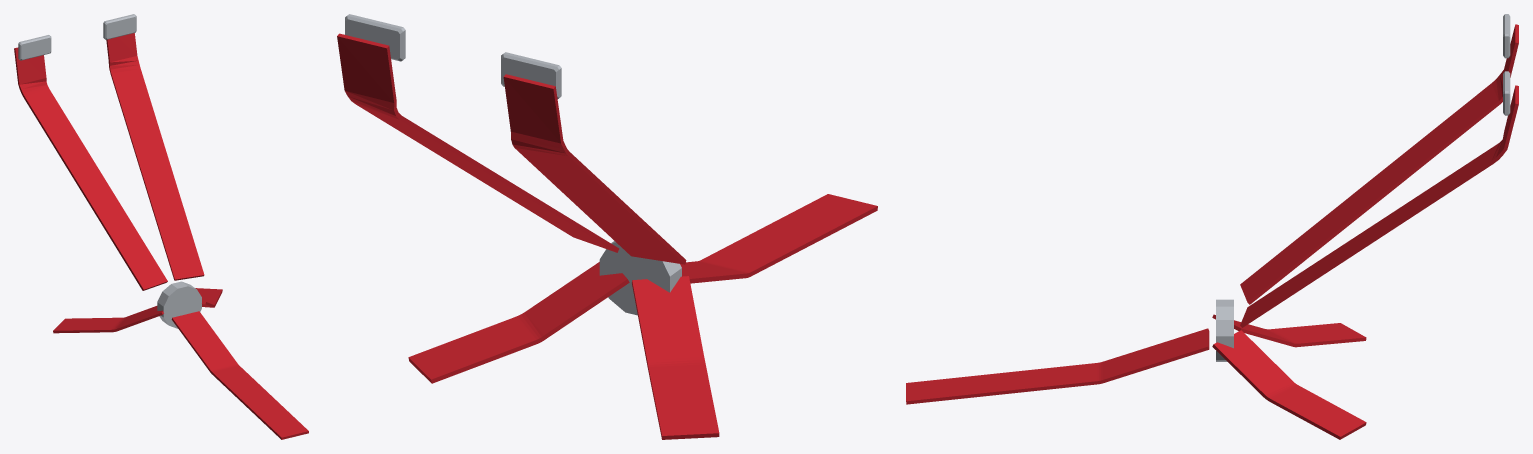
Rendered from apex_v8.glb.
The picture shows the model from 3 angles, left to right: view 1: azimuth 30°, elevation 25°; view 2: azimuth 150°, elevation 25°; view 3: azimuth 270°, elevation 25°; orthographic projection. The views are drawn at different scales.
Parts seen in each view (by area): view 1: model; view 2: model; view 3: model.
Boxes of the visible parts, left/top/right/bottom form: model: left=14, top=14, right=308, bottom=439; model: left=337, top=14, right=877, bottom=439; model: left=906, top=14, right=1518, bottom=439.
Bounding box in the file's own units: 0.2989 × 0.419 × 0.6787.
Materials: 1 (1 with a texture image).
